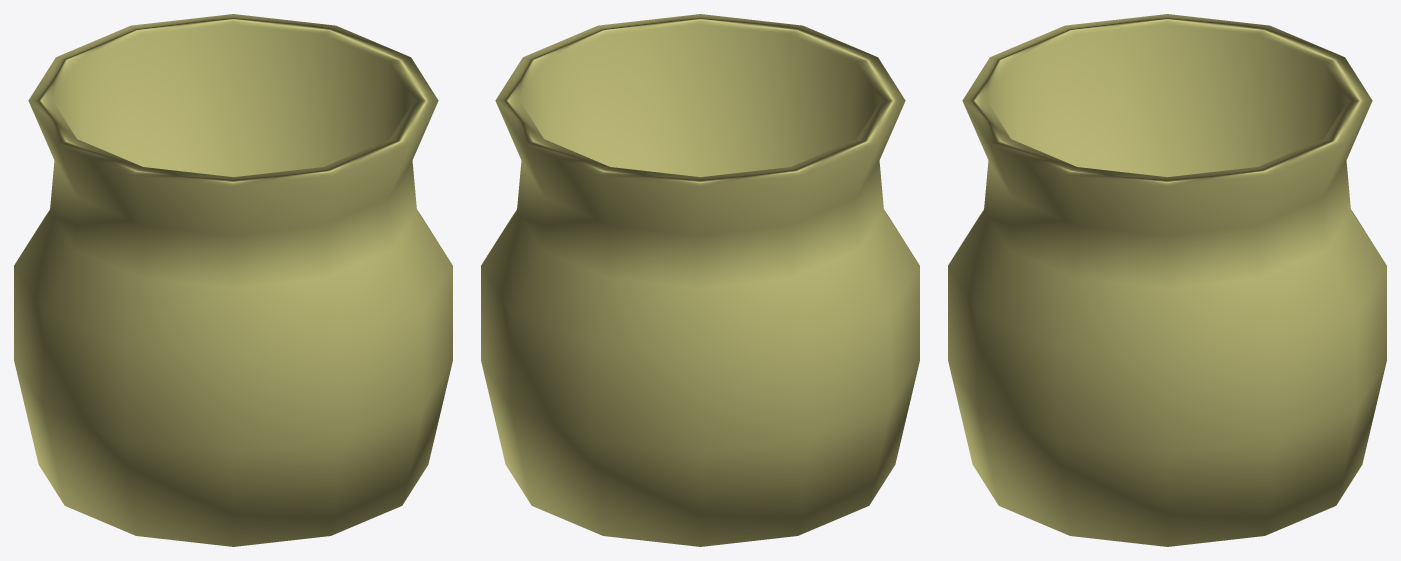
Rendered from Mod_Vase_LO_V1_JT.fbx.
3 renders of one model, left to right at view 1: azimuth 30°, elevation 25°; view 2: azimuth 150°, elevation 25°; view 3: azimuth 270°, elevation 25°, orthographic.
Visible parts, largest first — view 1: Vase_LO_V1; view 2: Vase_LO_V1; view 3: Vase_LO_V1.
Part boxes in pixels (<box>): Vase_LO_V1: <box>14,14,452,546</box>; Vase_LO_V1: <box>481,14,919,546</box>; Vase_LO_V1: <box>948,14,1386,546</box>.
Bounding box in the file's own units: 31.51 × 28.84 × 31.51.
